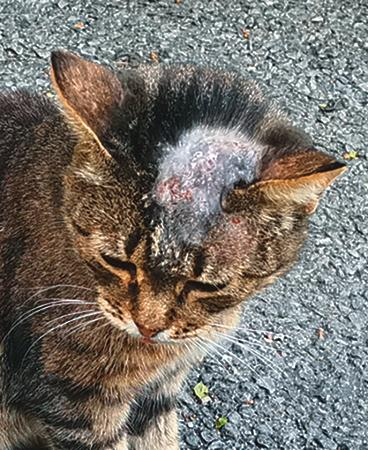ringworm: (156, 122, 265, 263)
